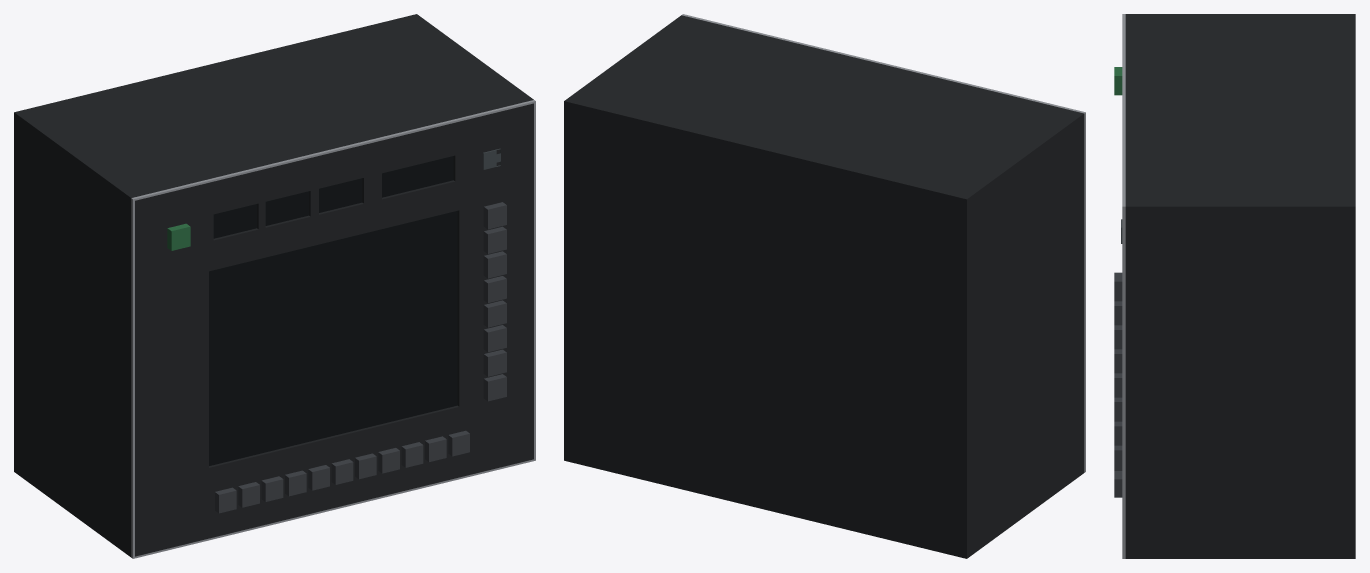
File: lkc_x_2000s_ab.obj
3 views of the same model, side by side, from view 1: azimuth 30°, elevation 25°; view 2: azimuth 150°, elevation 25°; view 3: azimuth 270°, elevation 25° (orthographic). The views are drawn at different scales.
Visible parts, largest first — view 1: housing, face_05, face_03, face_01, face_02, face_04, face_10, border_top, face_06, border_left, border_bottom, border_right; view 2: housing, border_top, border_left; view 3: housing, border_right, border_top.
Boxes of the visible parts, left/top/right/bottom form: housing: left=14, top=14, right=533, bottom=557; face_05: left=135, top=388, right=533, bottom=556; face_03: left=135, top=271, right=208, bottom=485; face_01: left=135, top=103, right=533, bottom=233; face_02: left=135, top=162, right=533, bottom=289; face_04: left=457, top=192, right=533, bottom=406; face_10: left=453, top=136, right=533, bottom=181; border_top: left=131, top=100, right=535, bottom=201; face_06: left=135, top=214, right=213, bottom=259; border_left: left=131, top=200, right=134, bottom=556; border_bottom: left=131, top=459, right=535, bottom=558; border_right: left=534, top=103, right=535, bottom=459; housing: left=564, top=15, right=1084, bottom=558; border_top: left=681, top=14, right=1085, bottom=114; border_left: left=1084, top=114, right=1085, bottom=470; housing: left=1125, top=14, right=1355, bottom=558; border_right: left=1122, top=208, right=1125, bottom=557; border_top: left=1122, top=14, right=1125, bottom=208.
Bounding box in the file's own units: 0.34 × 0.29 × 0.18.
